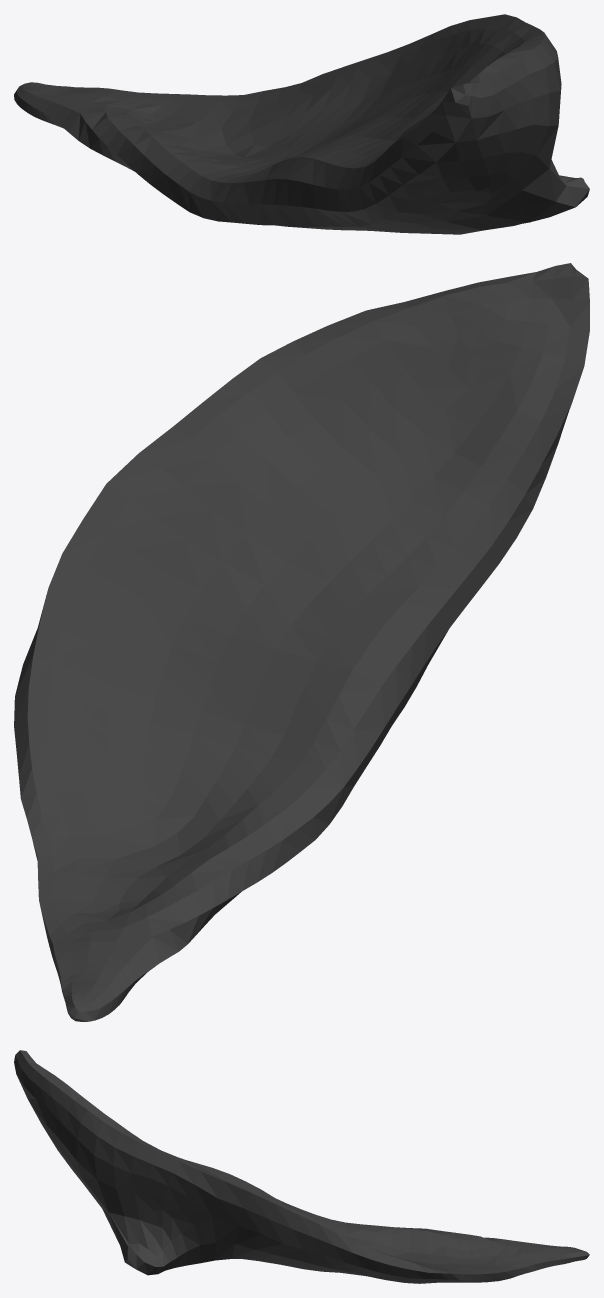
File: Pectoralis_profundus.glb
The picture shows the model from 3 angles, top to bottom: view 1: azimuth 30°, elevation 25°; view 2: azimuth 150°, elevation 25°; view 3: azimuth 270°, elevation 25°; orthographic projection. The views are drawn at different scales.
Parts seen in each view (by area): view 1: Pectoralis_profundus; view 2: Pectoralis_profundus; view 3: Pectoralis_profundus.
Part boxes in pixels (x1,y1,x2,y2): Pectoralis_profundus: (14,14,589,234); Pectoralis_profundus: (14,263,589,1021); Pectoralis_profundus: (14,1050,589,1283).
Size of the model in its own units: 0.3558 by 0.4399 by 1.07.
1 material, 1 textured.
